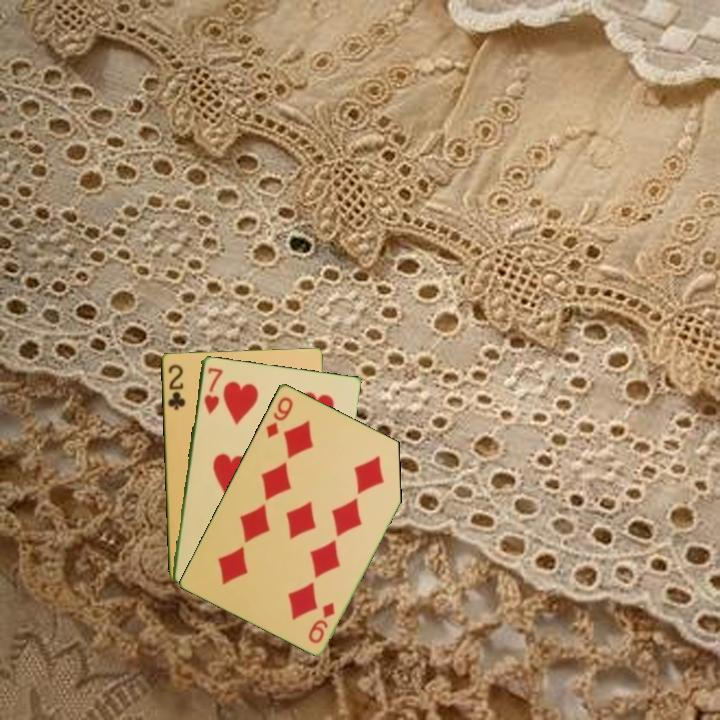2c: (164, 361, 188, 413)
7h: (200, 364, 225, 417)
9d: (262, 393, 296, 441), (305, 598, 338, 646)
